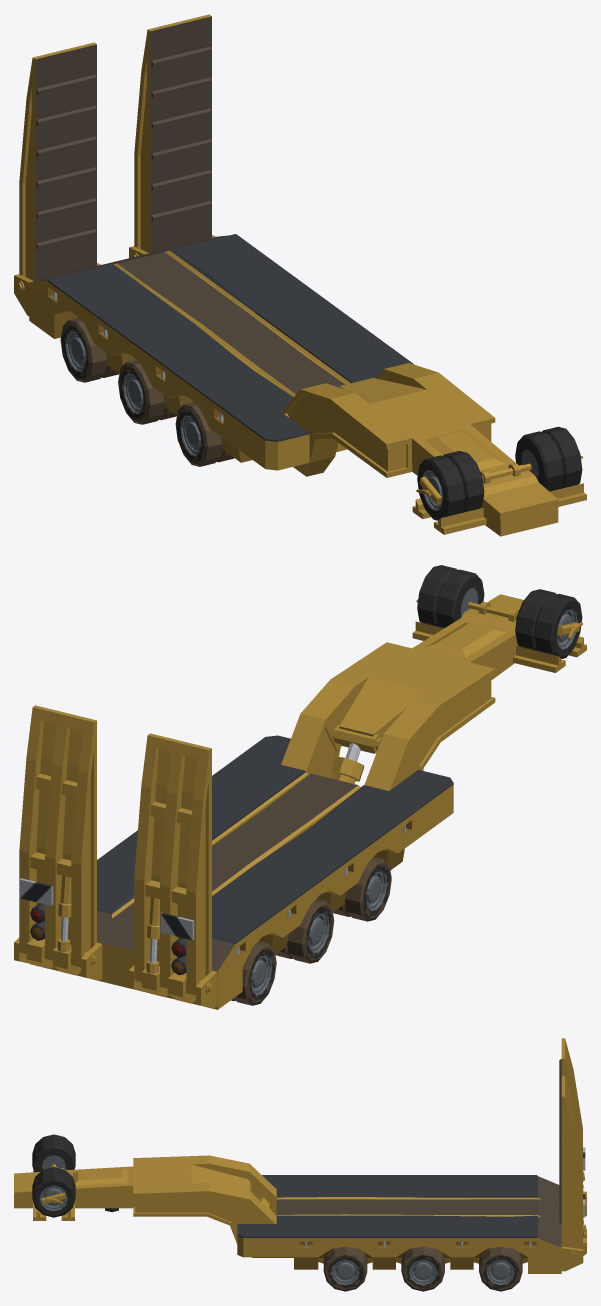
File: SM_Veh_Trailer_02.fbx
3 renders of one model, top to bottom at view 1: azimuth 30°, elevation 25°; view 2: azimuth 150°, elevation 25°; view 3: azimuth 270°, elevation 25°, orthographic. The views are drawn at different scales.
Visible parts, largest first — view 1: SM_Veh_Trailer_02, SM_Veh_Trailer_02_Wheel_mr, SM_Veh_Trailer_02_Wheel_fr, SM_Veh_Trailer_02_Wheel_rr; view 2: SM_Veh_Trailer_02, SM_Veh_Trailer_02_Wheel_mr, SM_Veh_Trailer_02_Wheel_fr, SM_Veh_Trailer_02_Wheel_rr; view 3: SM_Veh_Trailer_02, SM_Veh_Trailer_02_Wheel_fl, SM_Veh_Trailer_02_Wheel_ml, SM_Veh_Trailer_02_Wheel_rl.
Part boxes in pixels (left/top/right/bottom): SM_Veh_Trailer_02: left=14, top=14, right=586, bottom=536; SM_Veh_Trailer_02_Wheel_mr: left=118, top=360, right=176, bottom=424; SM_Veh_Trailer_02_Wheel_fr: left=175, top=402, right=233, bottom=466; SM_Veh_Trailer_02_Wheel_rr: left=60, top=318, right=118, bottom=382; SM_Veh_Trailer_02: left=14, top=565, right=586, bottom=1009; SM_Veh_Trailer_02_Wheel_mr: left=275, top=899, right=334, bottom=963; SM_Veh_Trailer_02_Wheel_fr: left=333, top=857, right=391, bottom=921; SM_Veh_Trailer_02_Wheel_rr: left=231, top=941, right=276, bottom=1005; SM_Veh_Trailer_02: left=14, top=1038, right=586, bottom=1273; SM_Veh_Trailer_02_Wheel_fl: left=323, top=1246, right=367, bottom=1291; SM_Veh_Trailer_02_Wheel_ml: left=401, top=1246, right=444, bottom=1291; SM_Veh_Trailer_02_Wheel_rl: left=479, top=1246, right=522, bottom=1291.
Bounding box in the file's own units: 370 × 527 × 1411.
